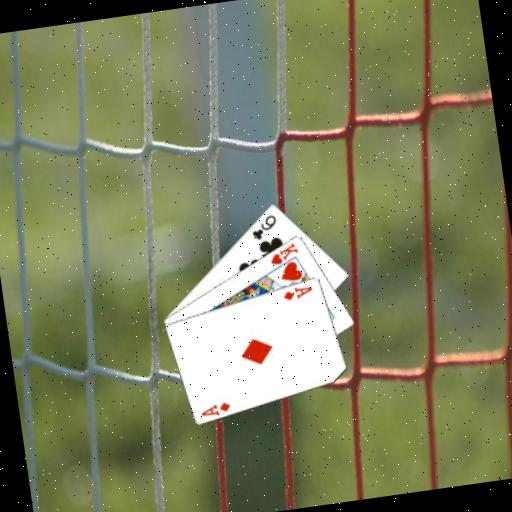9C: (247, 211, 281, 242)
AD: (279, 282, 315, 303), (197, 398, 233, 418)
KH: (265, 239, 302, 267)
